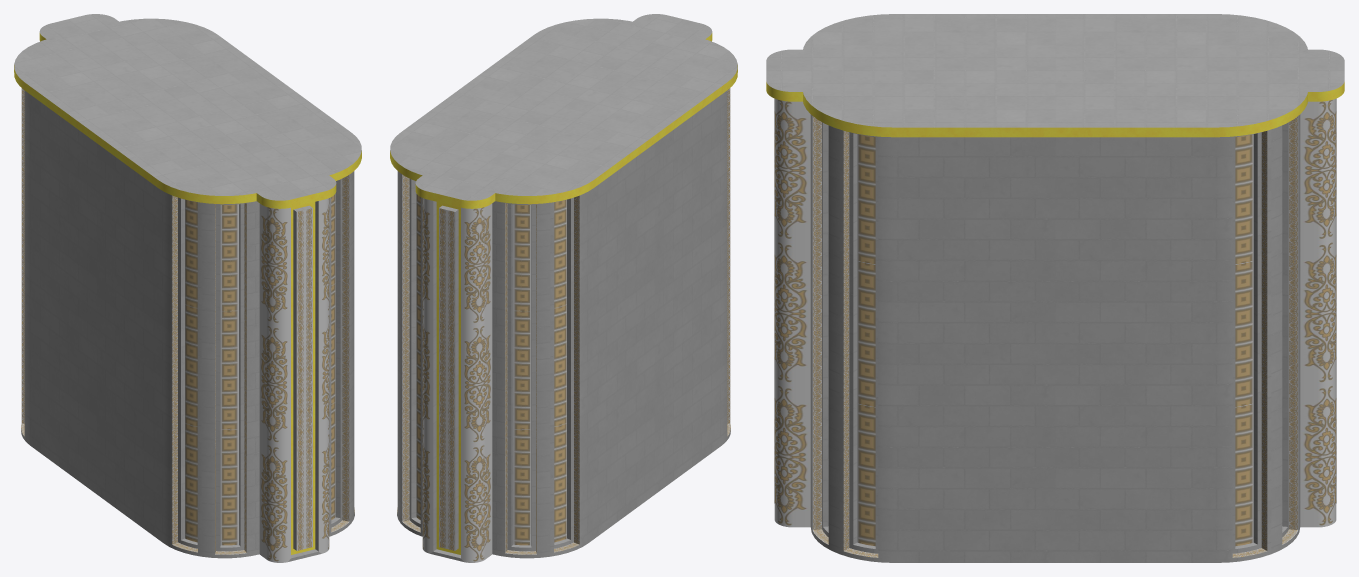
Rendered from SM_wall_module_round_03.glb.
The picture shows the model from 3 angles, left to right: view 1: azimuth 30°, elevation 25°; view 2: azimuth 150°, elevation 25°; view 3: azimuth 270°, elevation 25°; orthographic projection. The views are drawn at different scales.
Visible parts, largest first — view 1: SM_wall_module_round_03; view 2: SM_wall_module_round_03; view 3: SM_wall_module_round_03.
Part boxes in pixels (box(x1,y1,x2,y2)): SM_wall_module_round_03: box(14, 14, 361, 562); SM_wall_module_round_03: box(390, 14, 737, 562); SM_wall_module_round_03: box(766, 14, 1344, 562).
Size of the model in its own units: 5.86 by 10.56 by 12.6.
4 materials, 4 textured.
